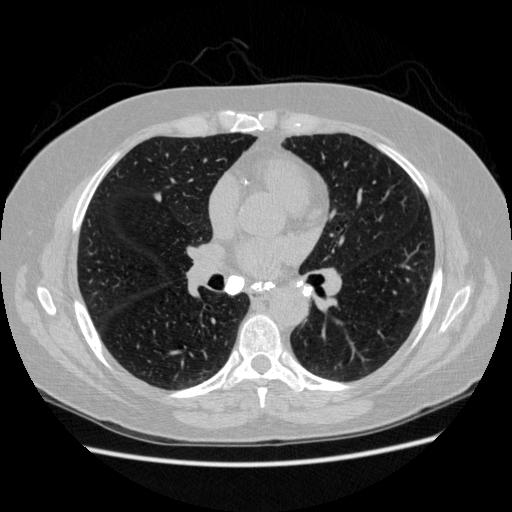nodule: (152, 191, 164, 203)
